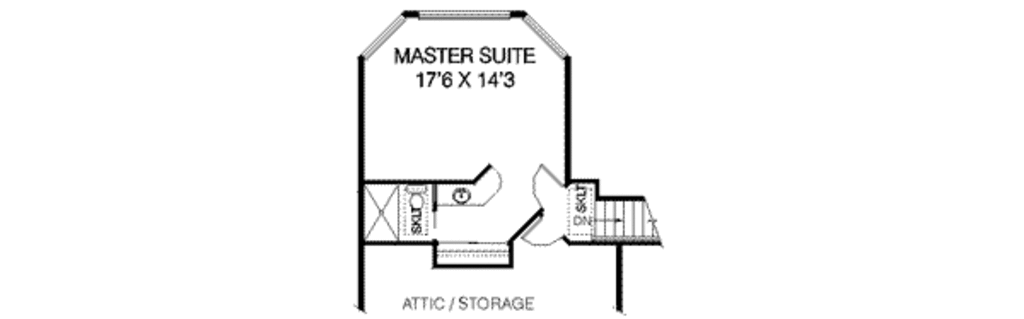door: (521, 156, 566, 212), (520, 211, 566, 256), (476, 159, 513, 194)
large_sink: (405, 180, 431, 216)
small_sink: (441, 182, 478, 216)
stairs: (584, 195, 668, 246)
window: (516, 4, 576, 59), (357, 9, 408, 63), (419, 4, 514, 21)
